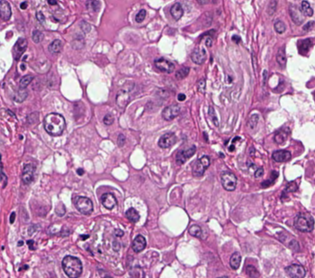nucleus: (44, 112, 65, 135), (116, 83, 134, 107), (176, 146, 195, 164), (294, 213, 313, 231), (193, 155, 209, 176), (74, 196, 92, 214), (162, 104, 180, 120), (158, 132, 176, 148), (221, 171, 236, 190), (154, 58, 174, 72), (289, 5, 303, 24), (100, 193, 116, 209), (191, 47, 206, 64), (261, 171, 277, 186), (132, 235, 145, 252), (272, 150, 290, 162), (299, 38, 313, 53), (276, 46, 286, 67), (274, 128, 288, 143), (170, 3, 183, 19), (208, 106, 218, 126), (125, 208, 139, 222), (300, 1, 313, 16), (49, 39, 62, 53), (189, 225, 202, 237), (175, 67, 189, 78), (247, 114, 258, 128), (274, 20, 285, 33), (135, 9, 145, 22), (32, 30, 42, 42), (267, 1, 276, 14), (103, 114, 113, 125), (87, 1, 99, 10), (117, 134, 125, 146), (197, 79, 204, 92), (303, 21, 313, 30), (36, 11, 44, 22), (255, 167, 263, 177), (232, 35, 240, 43), (263, 70, 267, 84), (178, 93, 185, 100), (115, 230, 123, 236), (206, 37, 211, 46), (77, 168, 83, 174), (48, 0, 56, 4), (80, 235, 87, 239)
